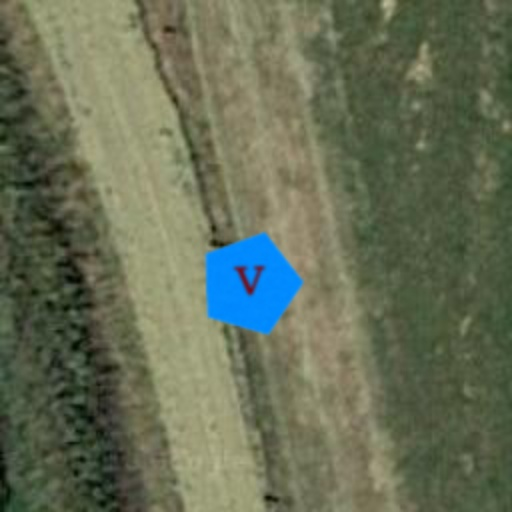pentagon: (192, 226, 308, 342)
